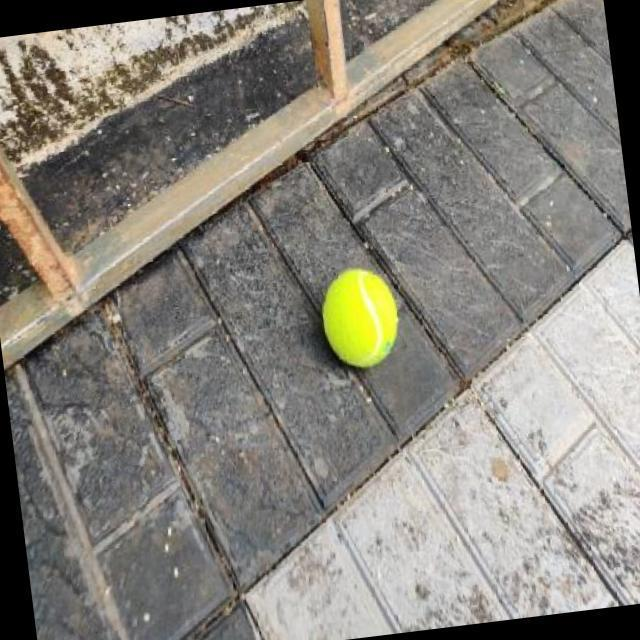-: (302, 232, 423, 396)
